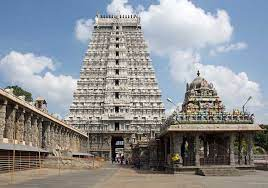Temple: (66, 12, 170, 130)
